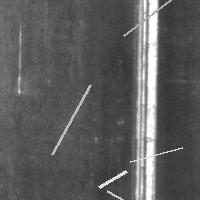scratches: (129, 1, 160, 199), (47, 80, 95, 159), (119, 0, 200, 40), (125, 143, 187, 167), (94, 166, 131, 192), (102, 186, 170, 200)
